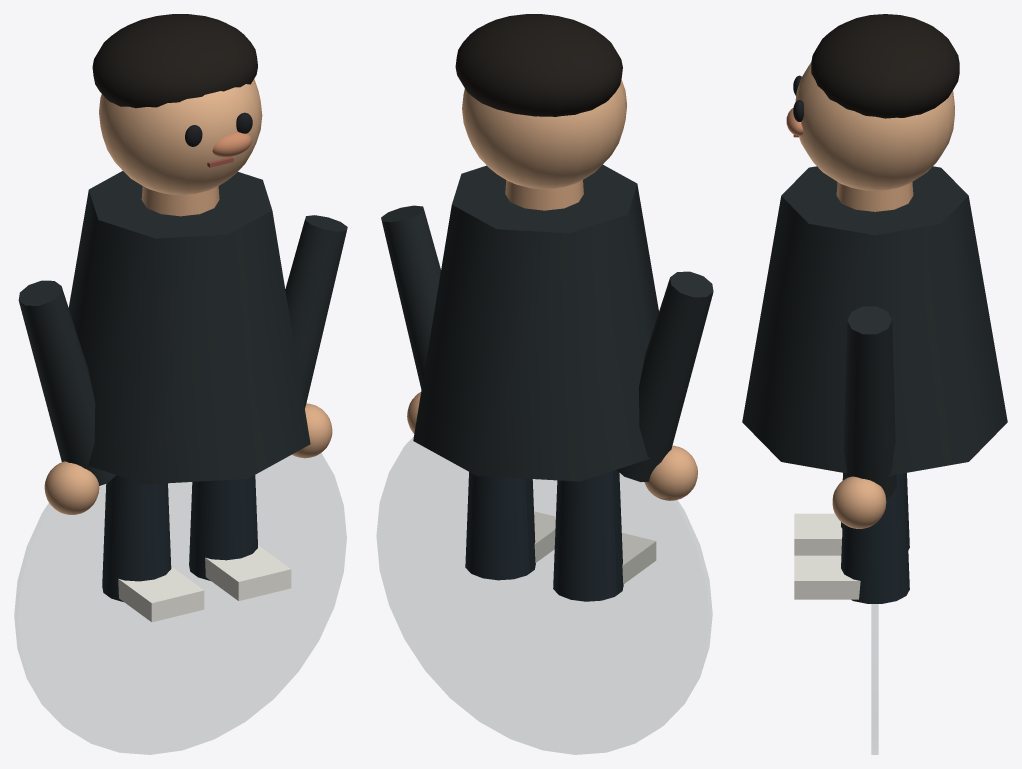
Rendered from avatar_customer.glb.
3 renders of one model, left to right at view 1: azimuth 30°, elevation 25°; view 2: azimuth 150°, elevation 25°; view 3: azimuth 270°, elevation 25°, orthographic. The views are drawn at different scales.
Visible parts, largest first — view 1: torso, shadow, hair, head, arm_-0.255, leg_-0.095, arm_0.255, leg_0.095, shoe_0.095, shoe_-0.095, hand_-0.255, neck (+2 smaller); view 2: shadow, torso, hair, head, arm_-0.255, leg_-0.095, leg_0.095, arm_0.255, hand_-0.255, neck, shoe_-0.095, shoe_0.095; view 3: torso, hair, head, arm_0.255, leg_0.095, shoe_0.095, hand_0.255, shoe_-0.095, neck, shadow.
Part boxes in pixels (x1,y1,x2,y2): torso: [68, 171, 310, 484]; shadow: [15, 453, 346, 754]; hair: [92, 14, 257, 108]; head: [99, 79, 262, 194]; arm_-0.255: [18, 280, 116, 485]; leg_-0.095: [102, 475, 171, 601]; arm_0.255: [285, 215, 347, 408]; leg_0.095: [189, 475, 257, 580]; shoe_0.095: [205, 545, 291, 600]; shoe_-0.095: [118, 566, 204, 622]; hand_-0.255: [44, 461, 99, 514]; neck: [141, 186, 219, 216]; shadow: [377, 438, 711, 754]; torso: [413, 165, 658, 481]; hair: [455, 14, 622, 116]; head: [462, 79, 626, 189]; arm_-0.255: [616, 271, 713, 481]; leg_-0.095: [553, 470, 623, 601]; leg_0.095: [465, 472, 535, 580]; arm_0.255: [381, 205, 440, 389]; hand_-0.255: [644, 445, 697, 500]; neck: [505, 180, 583, 210]; shoe_-0.095: [622, 533, 656, 584]; shoe_0.095: [534, 511, 555, 562]; torso: [742, 166, 1007, 475]; hair: [811, 14, 959, 118]; head: [795, 62, 954, 190]; arm_0.255: [843, 306, 896, 498]; leg_0.095: [841, 473, 909, 603]; shoe_0.095: [794, 555, 860, 599]; hand_0.255: [832, 476, 886, 528]; shoe_-0.095: [794, 513, 842, 555]; neck: [836, 182, 913, 211]; shadow: [872, 522, 877, 754].
Size of the model in its own units: 0.72 by 1.51 by 0.51.
